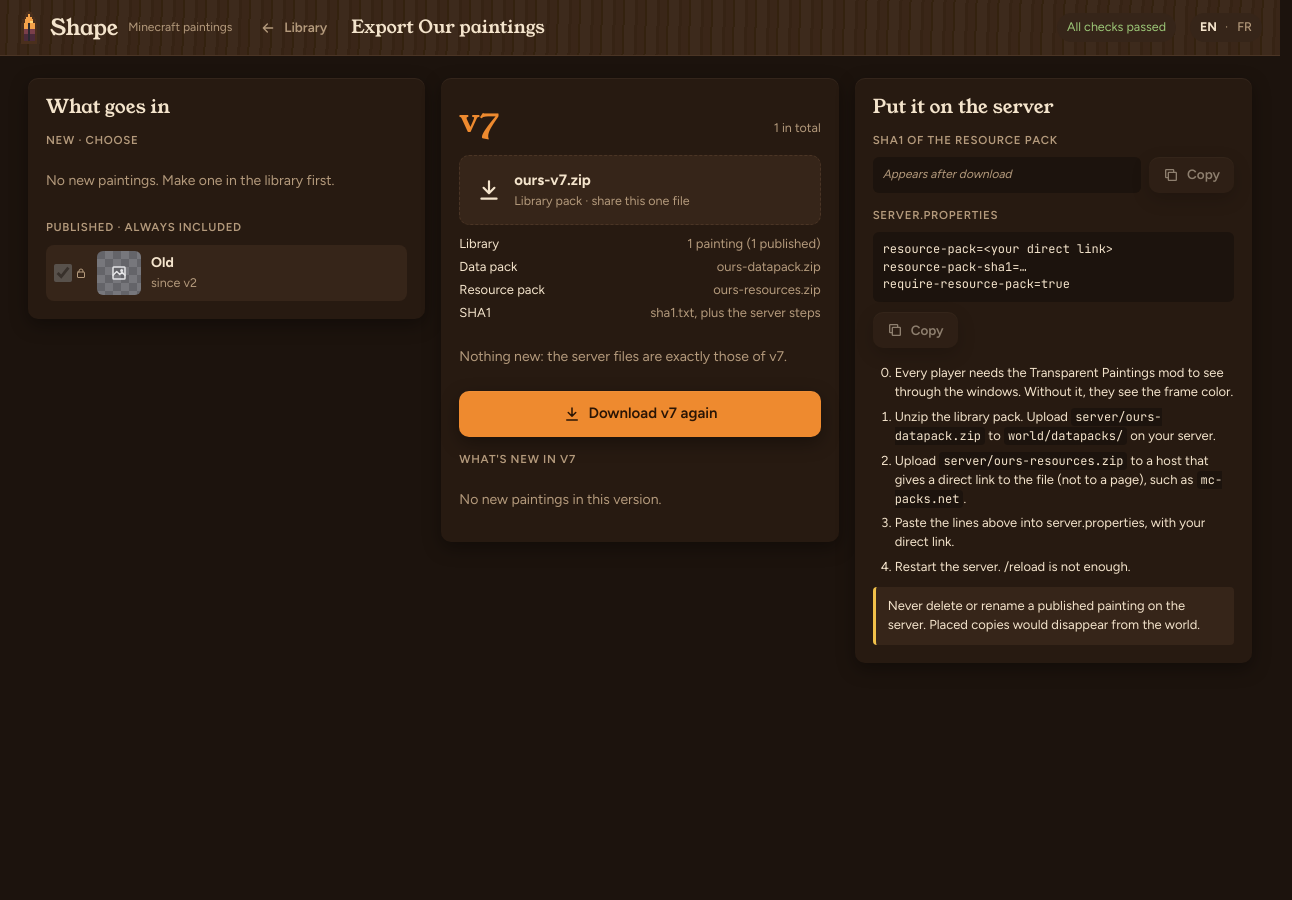
Test: ExportScreen › downloads the same version again when nothing is new, without a new version (C5)
expect the text "Nothing new: the server files are exactly those of v7." is shown: met, box [459,346,821,367]
expect the text "ours-v7.zip" is shown: met, box [514,171,591,189]
Click the button "Download v7 again".
click(640, 414)  # box [459,391,821,437]
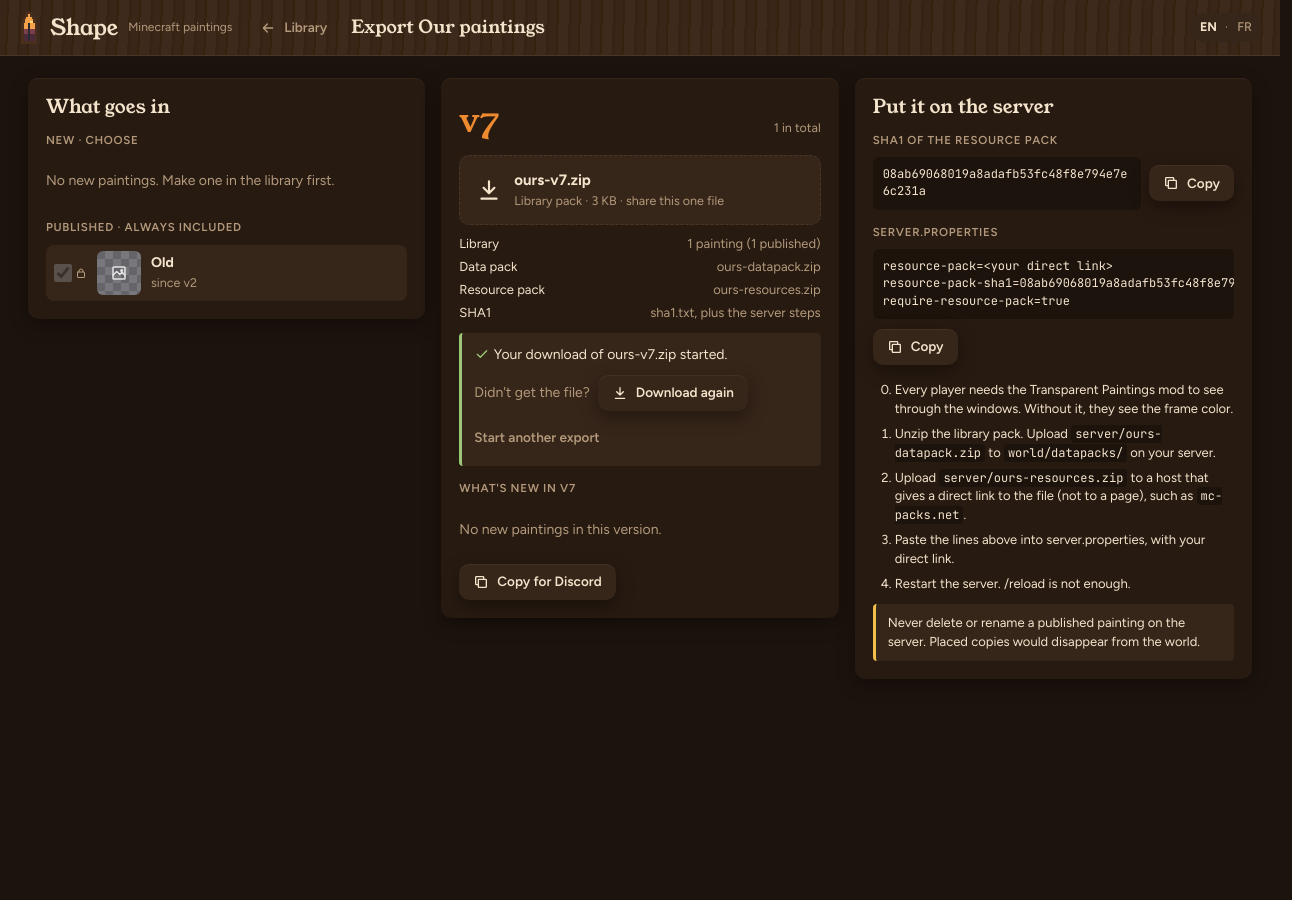
expect the text "ours-v7.zip" is shown: met, box [514,171,591,189]
expect the text "Your download of ours-v7.zip started." is shown: met, box [474,346,727,362]
